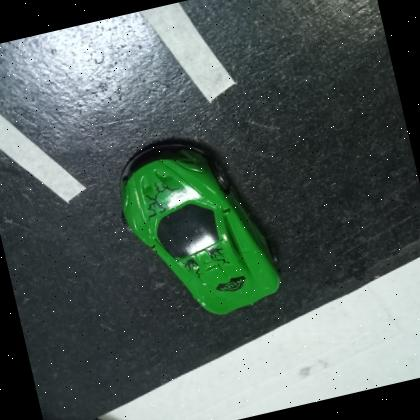Car: (119, 138, 281, 314)
